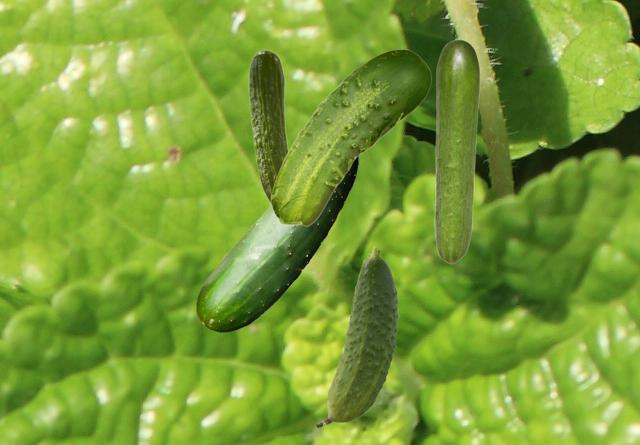cucumber: (270, 49, 430, 225), (196, 158, 357, 331), (316, 246, 398, 426), (434, 39, 479, 263), (248, 49, 288, 202)
